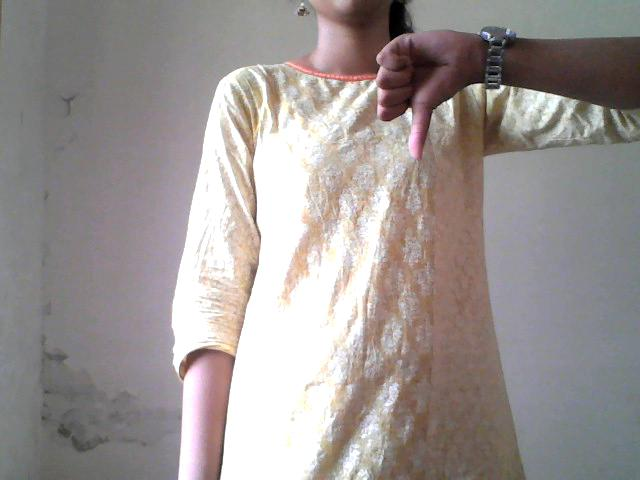thumbs-down: (345, 20, 504, 165)
